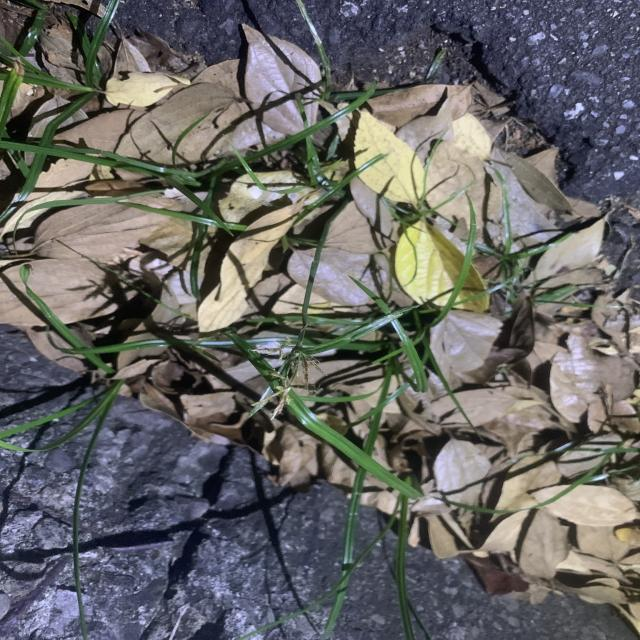cyperus: (232, 312, 351, 430)
